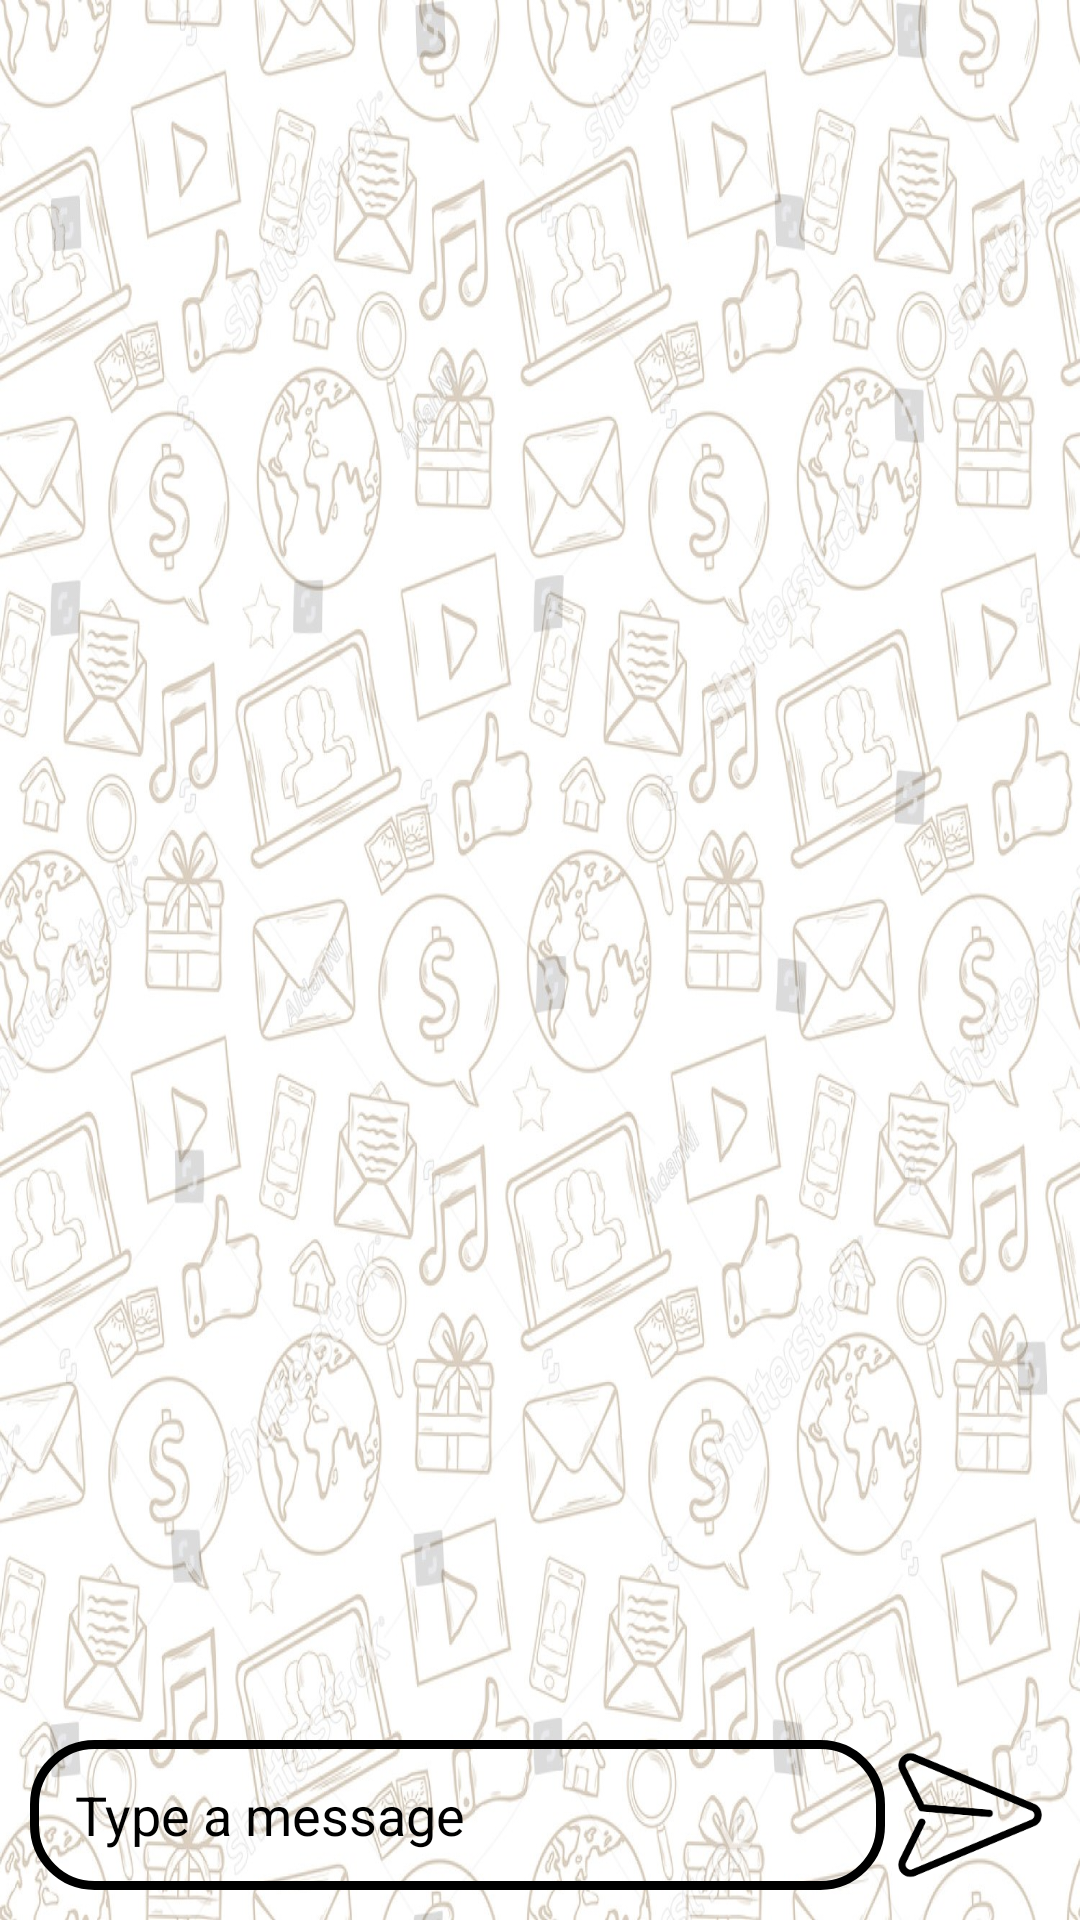

Icon bounding boxes for this 1080w x 1920h phone screenshot, format (x1,y1,x2,y2):
send: (885,1740,1055,1890)
